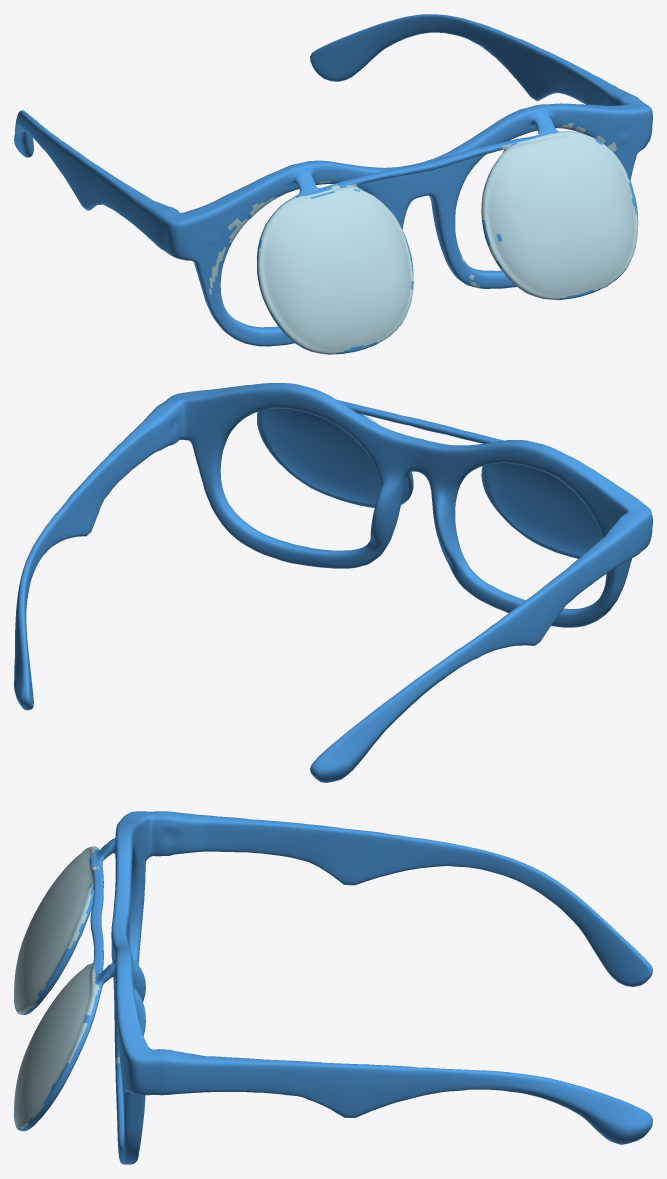
File: glass2.glb
The picture shows the model from 3 angles, top to bottom: view 1: azimuth 30°, elevation 25°; view 2: azimuth 150°, elevation 25°; view 3: azimuth 270°, elevation 25°; orthographic projection. The views are drawn at different scales.
Parts seen in each view (by area): view 1: model; view 2: model; view 3: model.
Part boxes in pixels (left/top/right/bottom): model: left=14, top=14, right=652, bottom=354; model: left=14, top=383, right=652, bottom=782; model: left=14, top=811, right=652, bottom=1164.
Bounding box in the file's own units: 1.76 × 0.6116 × 1.9.
